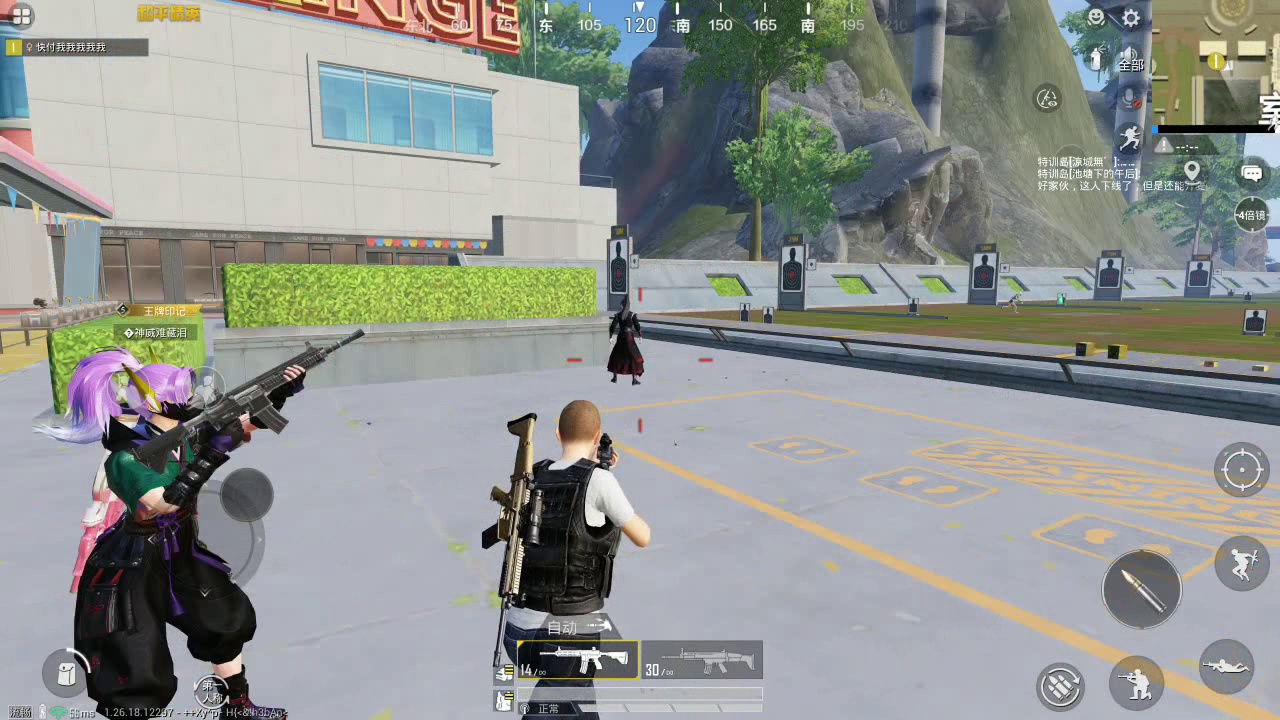enemy: (91, 362, 286, 720), (607, 295, 649, 389)
